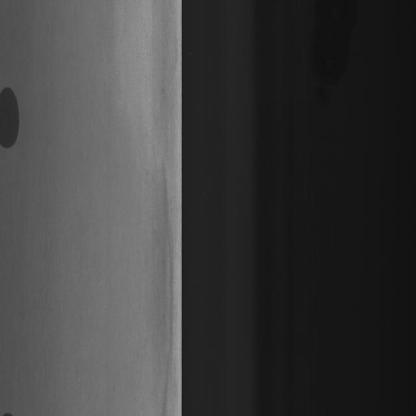oil_spot: (0, 78, 25, 167)
